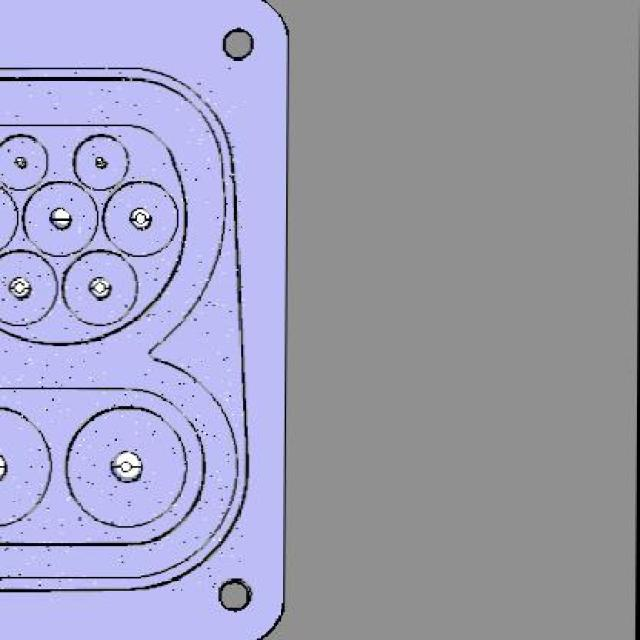CCS2: (0, 76, 289, 628)
